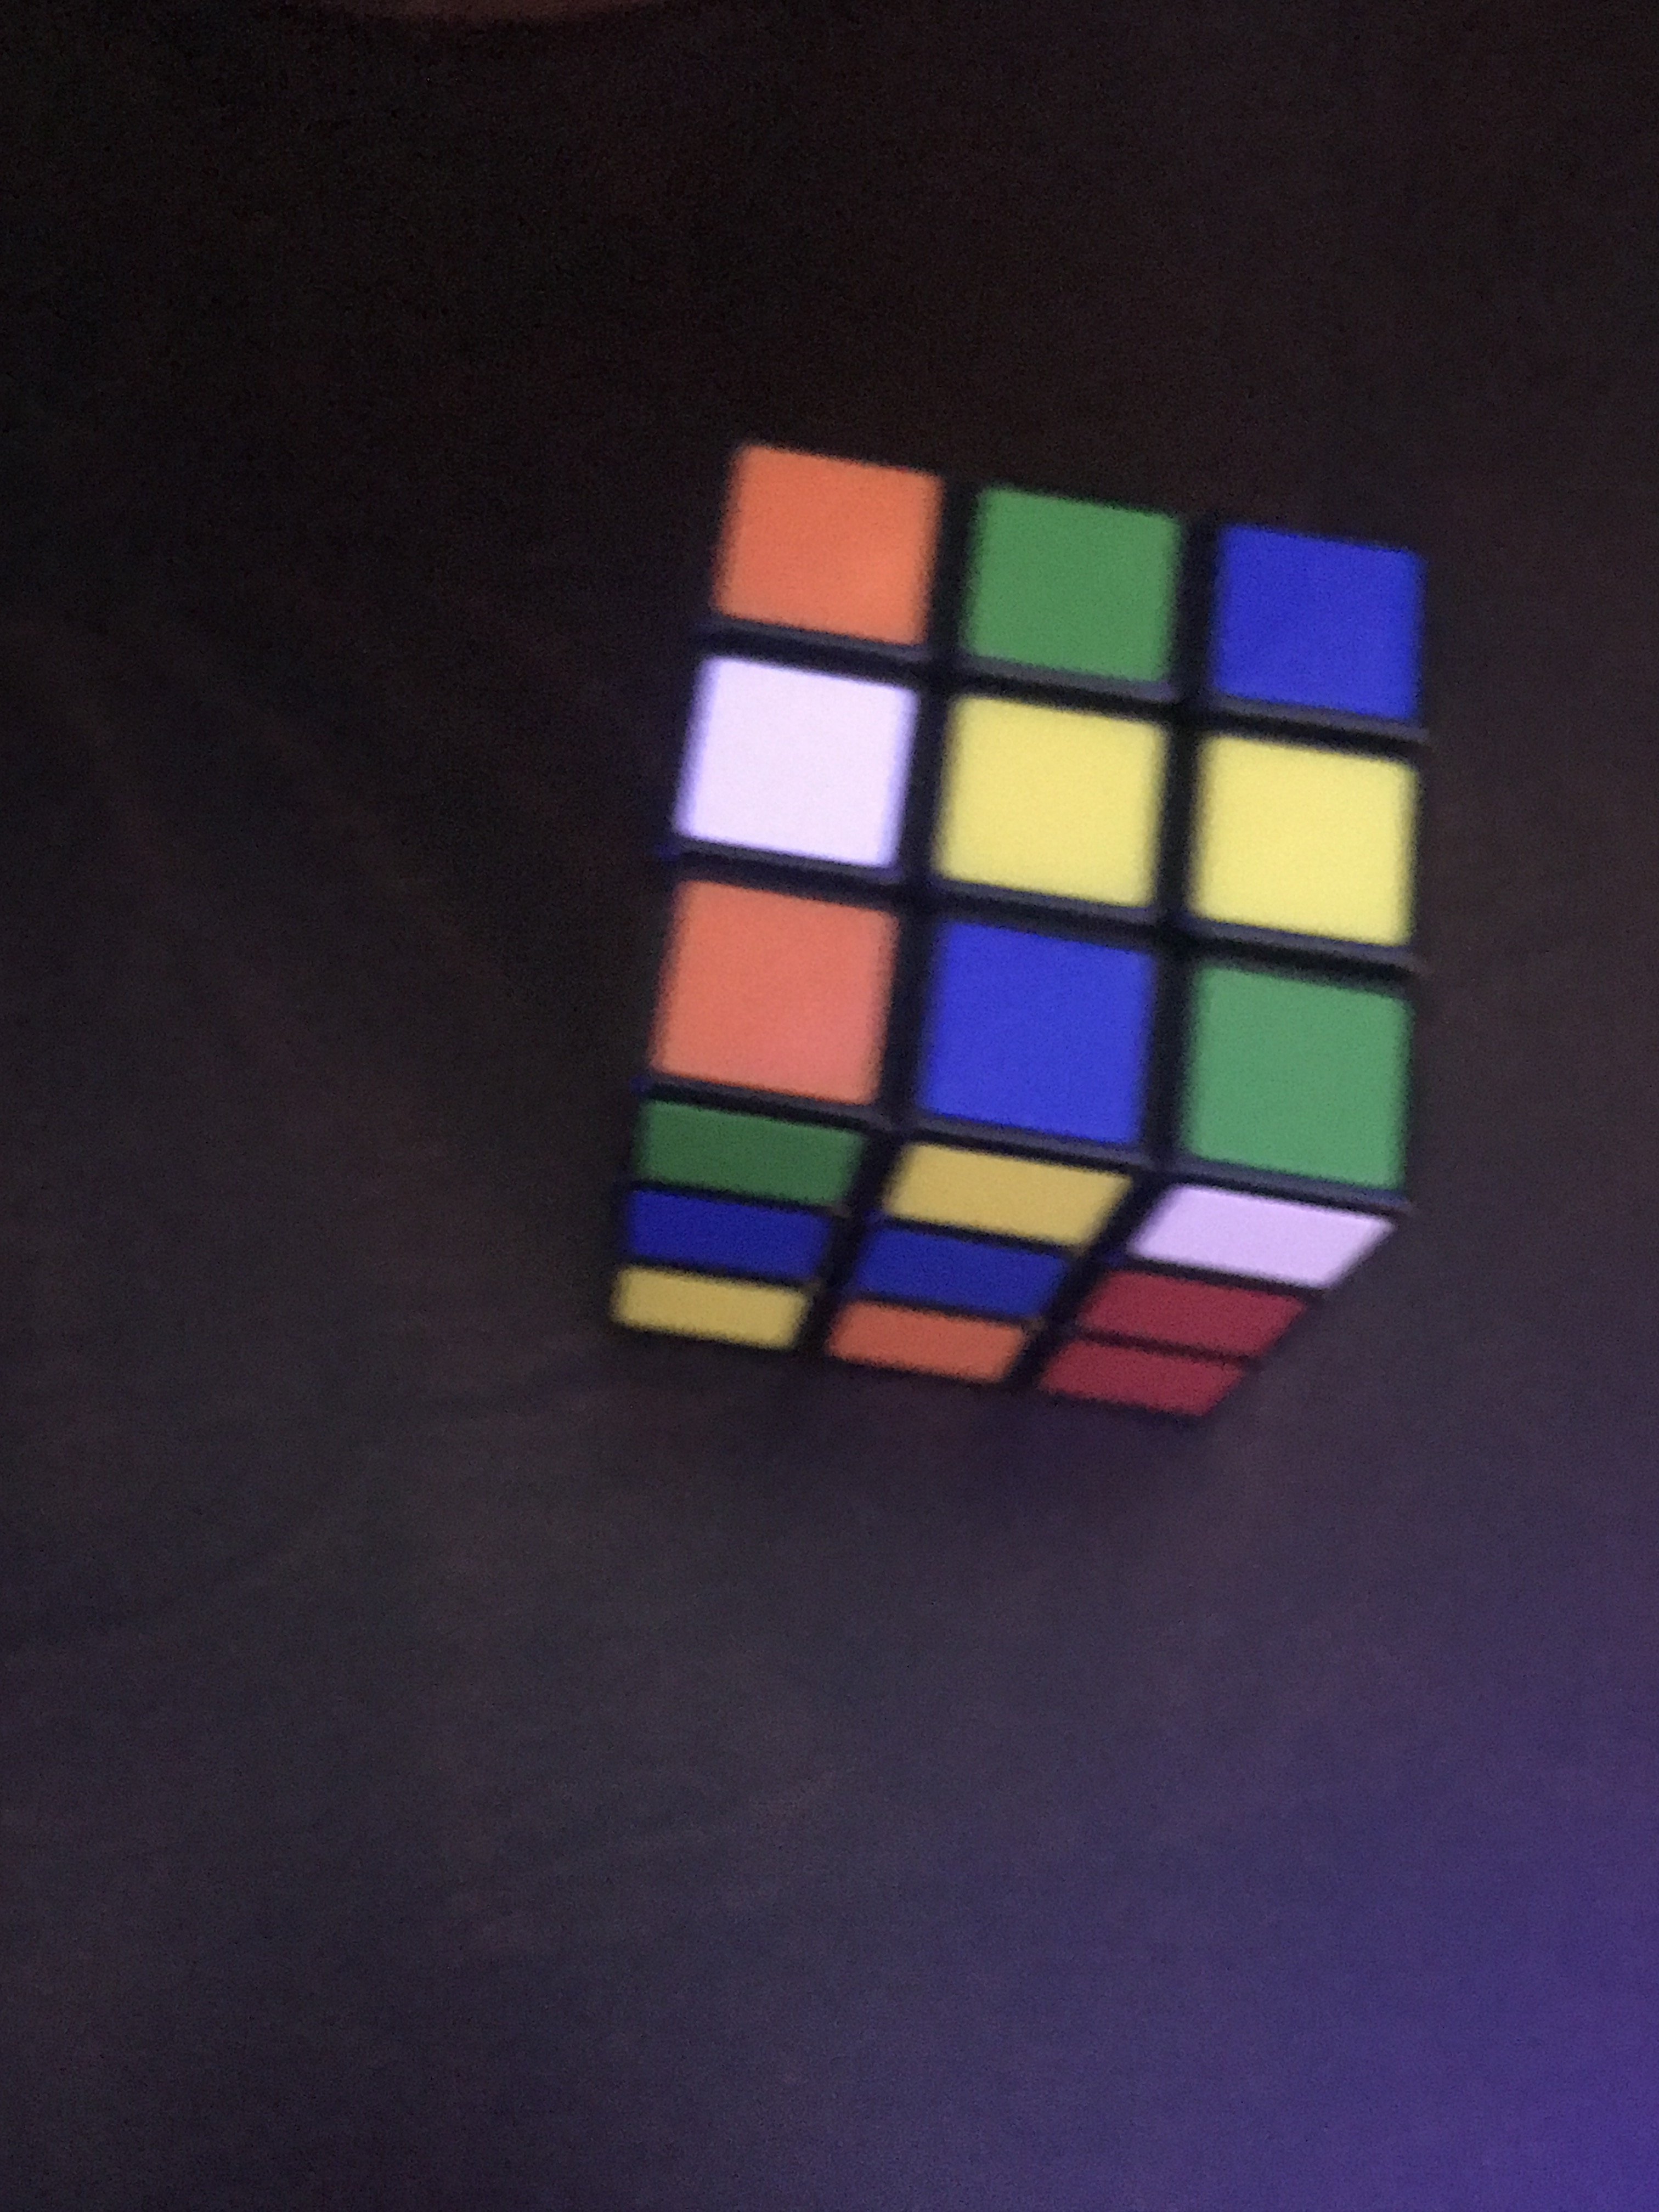rubiks: (592, 442, 1431, 1447)
